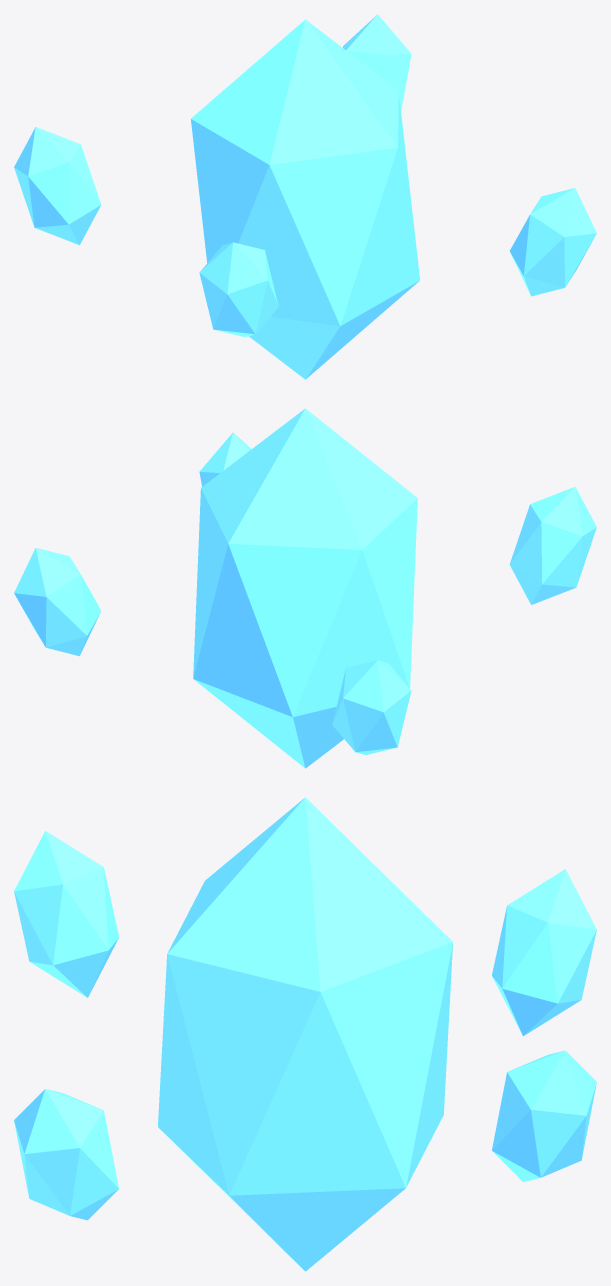
The model's file is xai_great_beacon_crystal.fbx.
3 renders of one model, top to bottom at view 1: azimuth 30°, elevation 25°; view 2: azimuth 150°, elevation 25°; view 3: azimuth 270°, elevation 25°, orthographic. The views are drawn at different scales.
Visible parts, largest first — view 1: xai_great_beacon_crystal, xai_great_beacon_shard_1, xai_great_beacon_shard_3, xai_great_beacon_shard_2, xai_great_beacon_shard_0; view 2: xai_great_beacon_crystal, xai_great_beacon_shard_2, xai_great_beacon_shard_0, xai_great_beacon_shard_1, xai_great_beacon_shard_3; view 3: xai_great_beacon_crystal, xai_great_beacon_shard_2, xai_great_beacon_shard_1, xai_great_beacon_shard_0, xai_great_beacon_shard_3.
Part boxes in pixels (bbox=[...]): xai_great_beacon_crystal: bbox=[191, 19, 419, 379]; xai_great_beacon_shard_1: bbox=[14, 127, 101, 245]; xai_great_beacon_shard_3: bbox=[509, 188, 596, 296]; xai_great_beacon_shard_2: bbox=[199, 242, 278, 336]; xai_great_beacon_shard_0: bbox=[342, 14, 411, 111]; xai_great_beacon_crystal: bbox=[193, 408, 417, 768]; xai_great_beacon_shard_2: bbox=[509, 487, 596, 604]; xai_great_beacon_shard_0: bbox=[14, 548, 100, 656]; xai_great_beacon_shard_1: bbox=[332, 660, 411, 754]; xai_great_beacon_shard_3: bbox=[199, 432, 251, 486]; xai_great_beacon_crystal: bbox=[158, 797, 452, 1271]; xai_great_beacon_shard_2: bbox=[14, 831, 118, 997]; xai_great_beacon_shard_1: bbox=[492, 869, 596, 1036]; xai_great_beacon_shard_0: bbox=[492, 1050, 596, 1181]; xai_great_beacon_shard_3: bbox=[14, 1089, 118, 1220].
Bounding box in the file's own units: 1.38 × 1.24 × 1.38.
